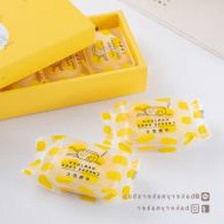snack: (0, 0, 155, 126), (16, 128, 146, 208), (93, 91, 217, 159)
